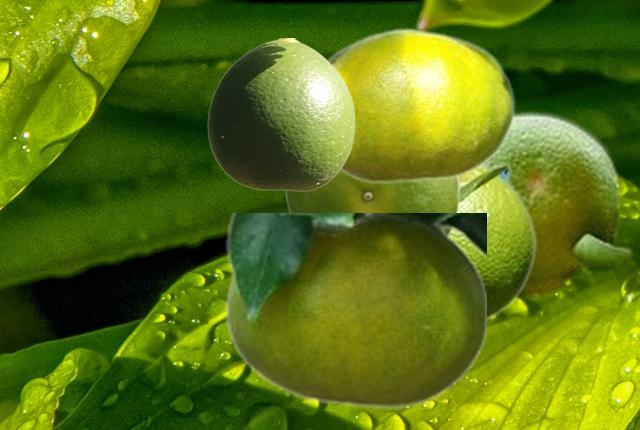dalandan: (225, 213, 485, 408), (327, 27, 514, 184), (488, 108, 635, 299), (207, 38, 354, 190), (452, 158, 537, 323), (284, 173, 459, 234)
